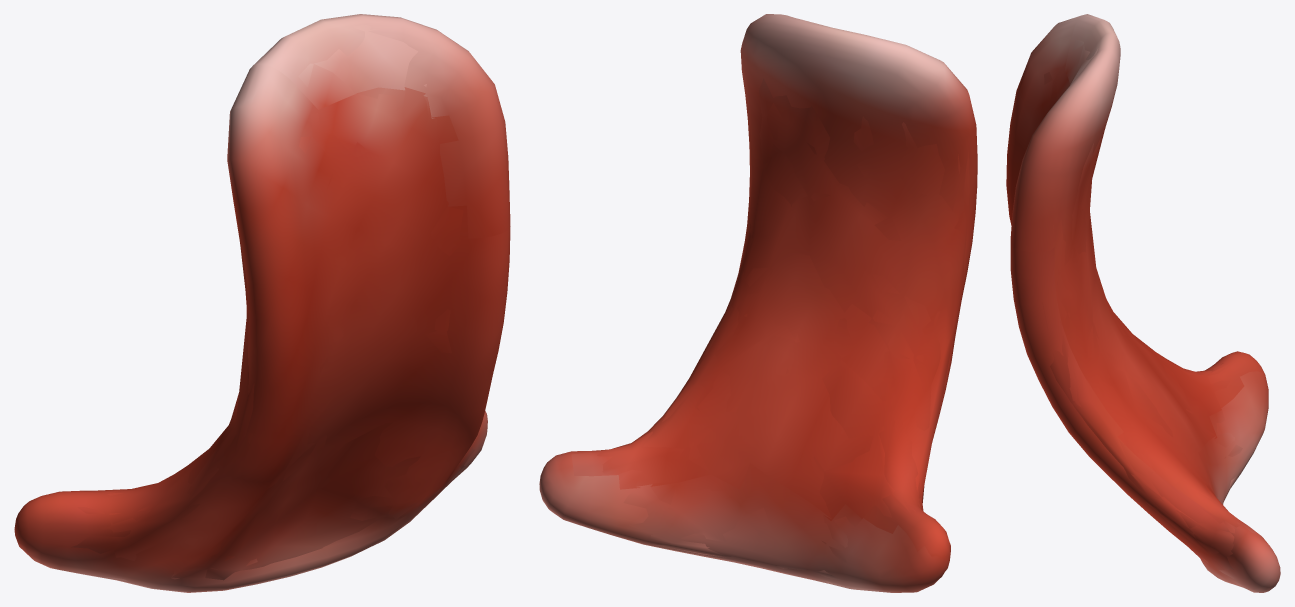
The model's file is Transversus Nasi.fbx.
The picture shows the model from 3 angles, left to right: view 1: azimuth 30°, elevation 25°; view 2: azimuth 150°, elevation 25°; view 3: azimuth 270°, elevation 25°; orthographic projection. The views are drawn at different scales.
Visible parts, largest first — view 1: Transversus Nasi, Transversus Nasi low; view 2: Transversus Nasi, Transversus Nasi low; view 3: Transversus Nasi, Transversus Nasi low.
Boxes of the visible parts, bbox=[...] form: Transversus Nasi: bbox=[14, 14, 510, 592]; Transversus Nasi low: bbox=[71, 25, 474, 581]; Transversus Nasi: bbox=[539, 14, 977, 592]; Transversus Nasi low: bbox=[593, 78, 969, 583]; Transversus Nasi: bbox=[1006, 14, 1280, 592]; Transversus Nasi low: bbox=[1042, 39, 1242, 578].
Size of the model in its own units: 7.37 by 8.92 by 4.46.
